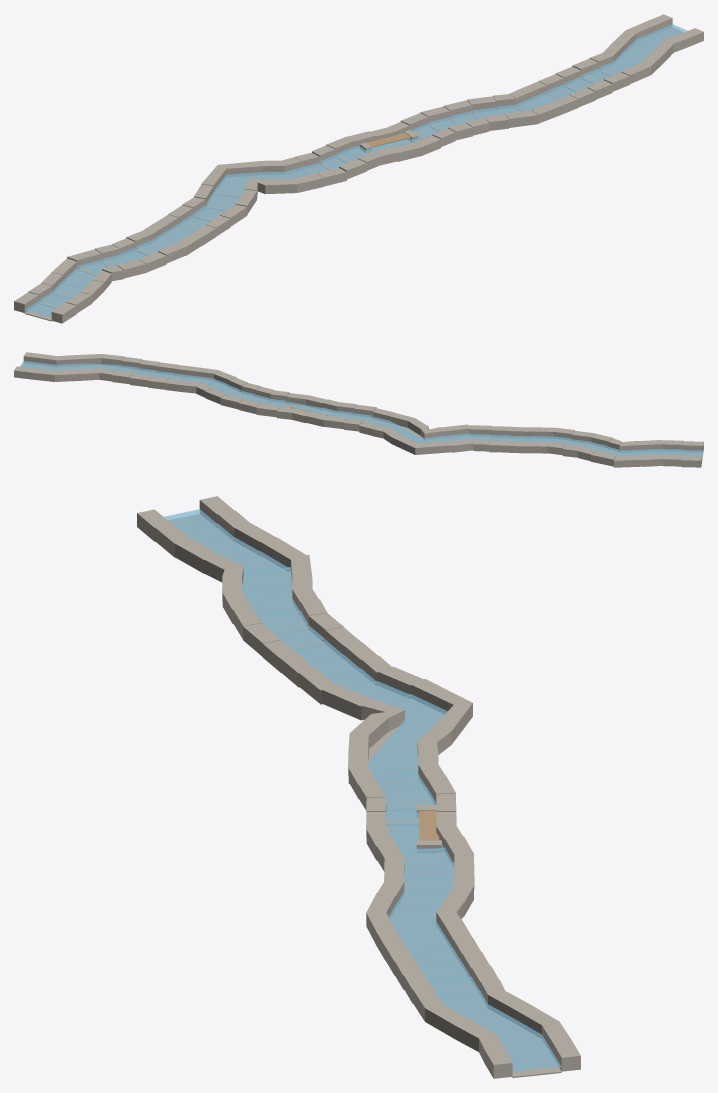
File: creek.lod1.glb
The picture shows the model from 3 angles, top to bottom: view 1: azimuth 30°, elevation 25°; view 2: azimuth 150°, elevation 25°; view 3: azimuth 270°, elevation 25°; orthographic projection. The views are drawn at different scales.
Size of the model in its own units: 77.72 by 2.31 by 24.66.
